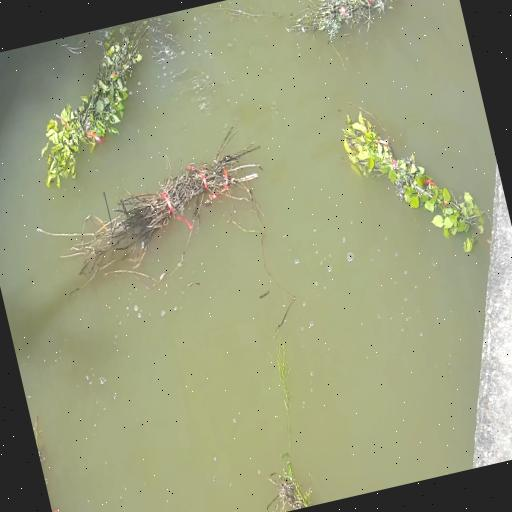twig: (57, 128, 261, 281), (342, 111, 484, 237), (41, 27, 142, 187), (291, 0, 394, 39), (267, 449, 312, 512), (277, 343, 291, 448)
